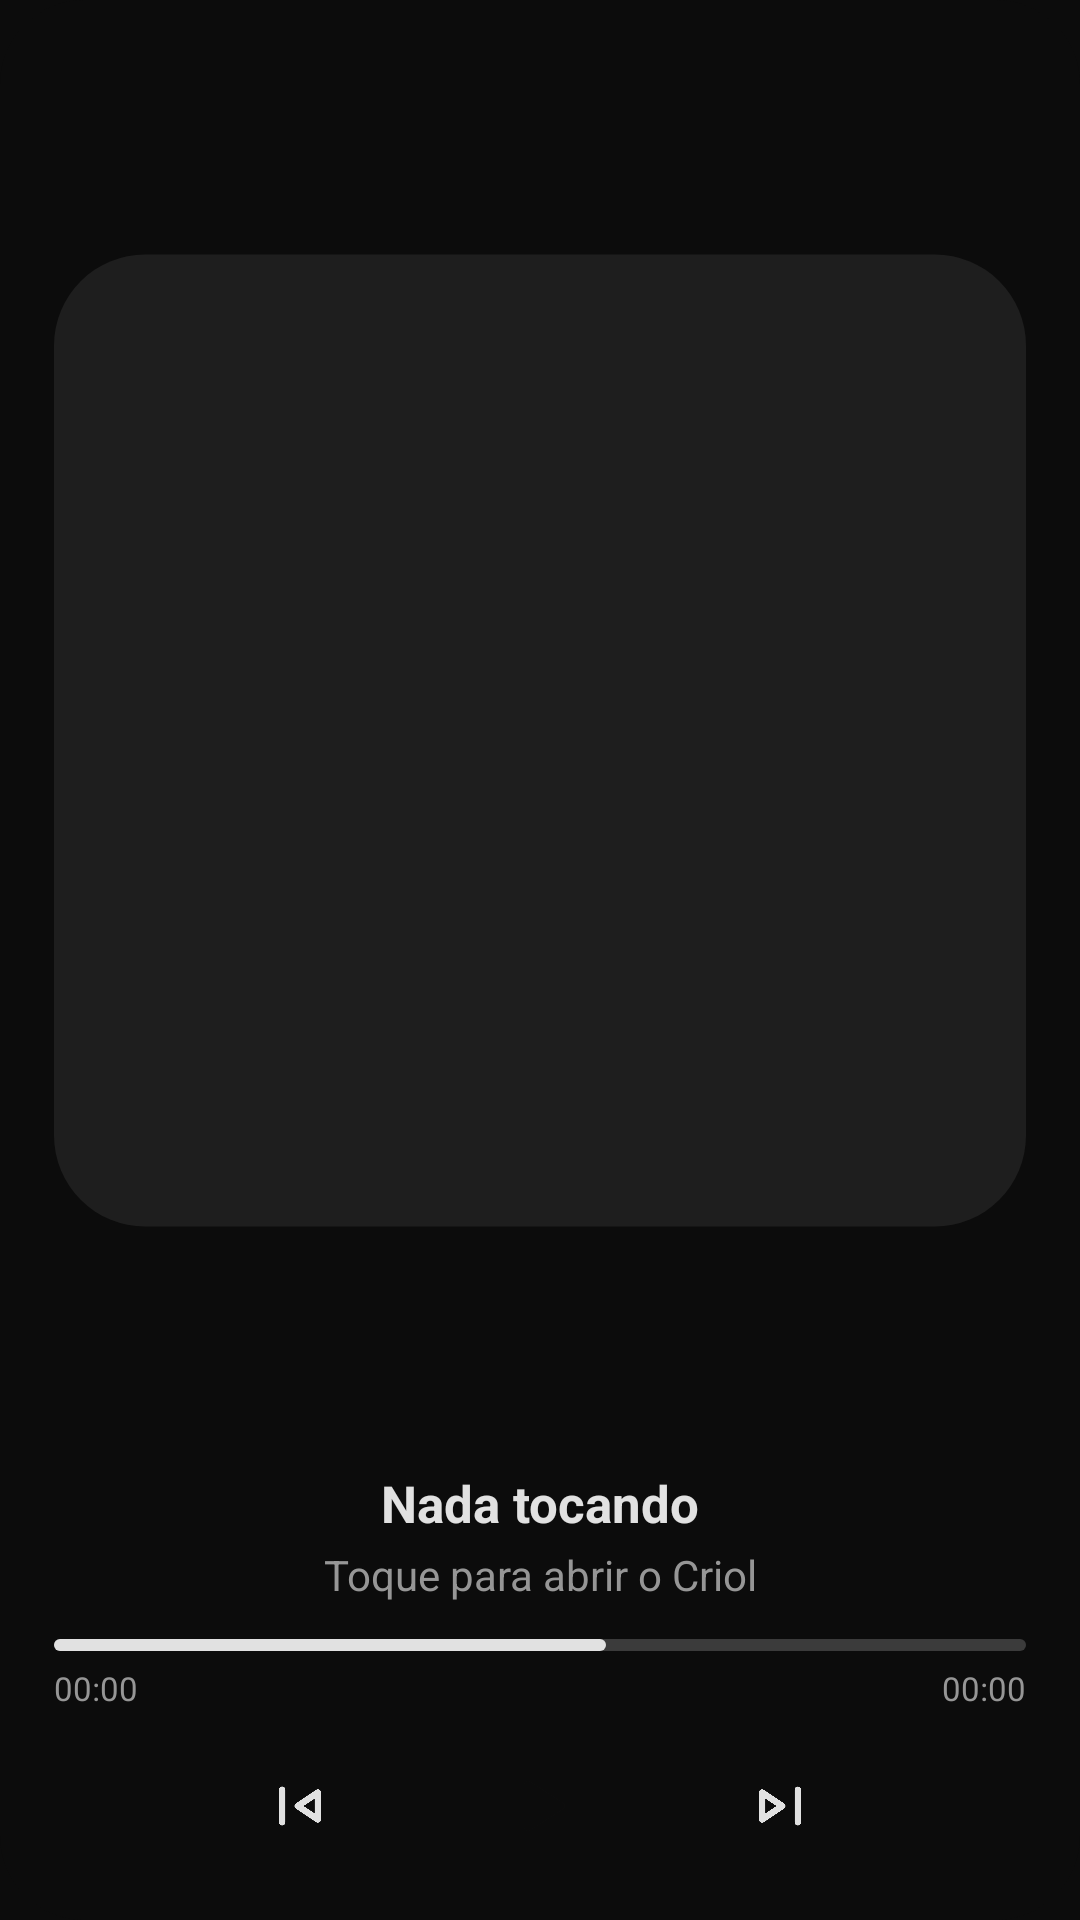

Where to tap for icons on this 1080 x 1920 app screen, as [x,y]:
Anterior: [300,1806]
Próxima: [780,1806]
